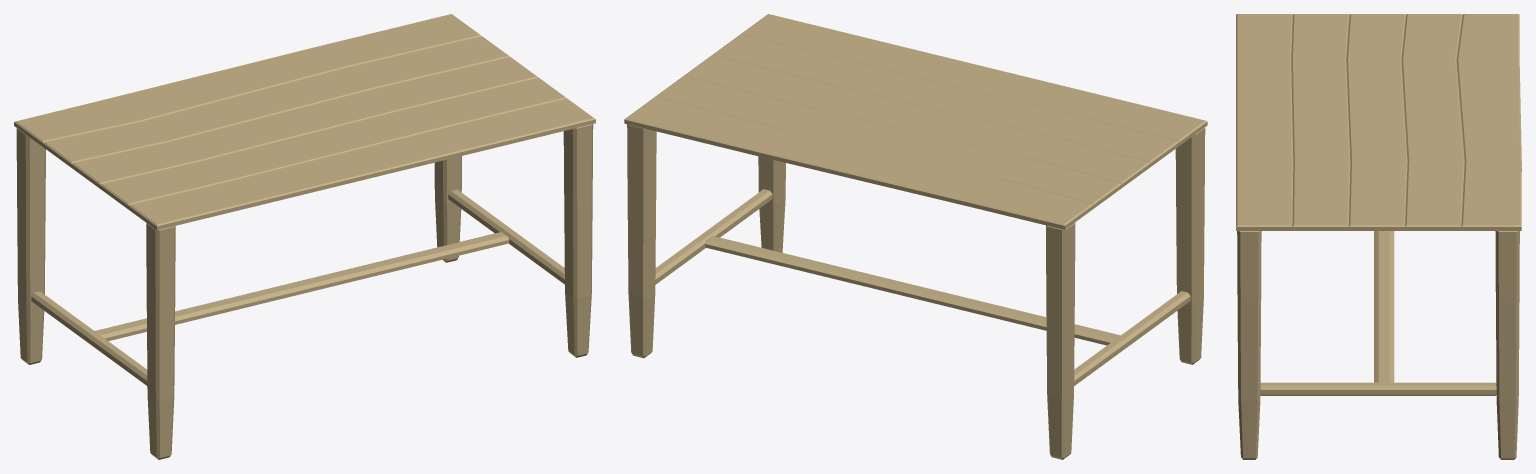
The model's file is fp_study_table.glb.
3 renders of one model, left to right at view 1: azimuth 30°, elevation 25°; view 2: azimuth 150°, elevation 25°; view 3: azimuth 270°, elevation 25°, orthographic.
Parts seen in each view (by area): view 1: table_a001; view 2: table_a001; view 3: table_a001.
Boxes of the visible parts, box(x1,y1,x2,y2) form: table_a001: box(14, 14, 595, 459); table_a001: box(624, 14, 1207, 459); table_a001: box(1236, 14, 1521, 459).
Bounding box in the file's own units: 0.4 × 0.2075 × 0.2271.
